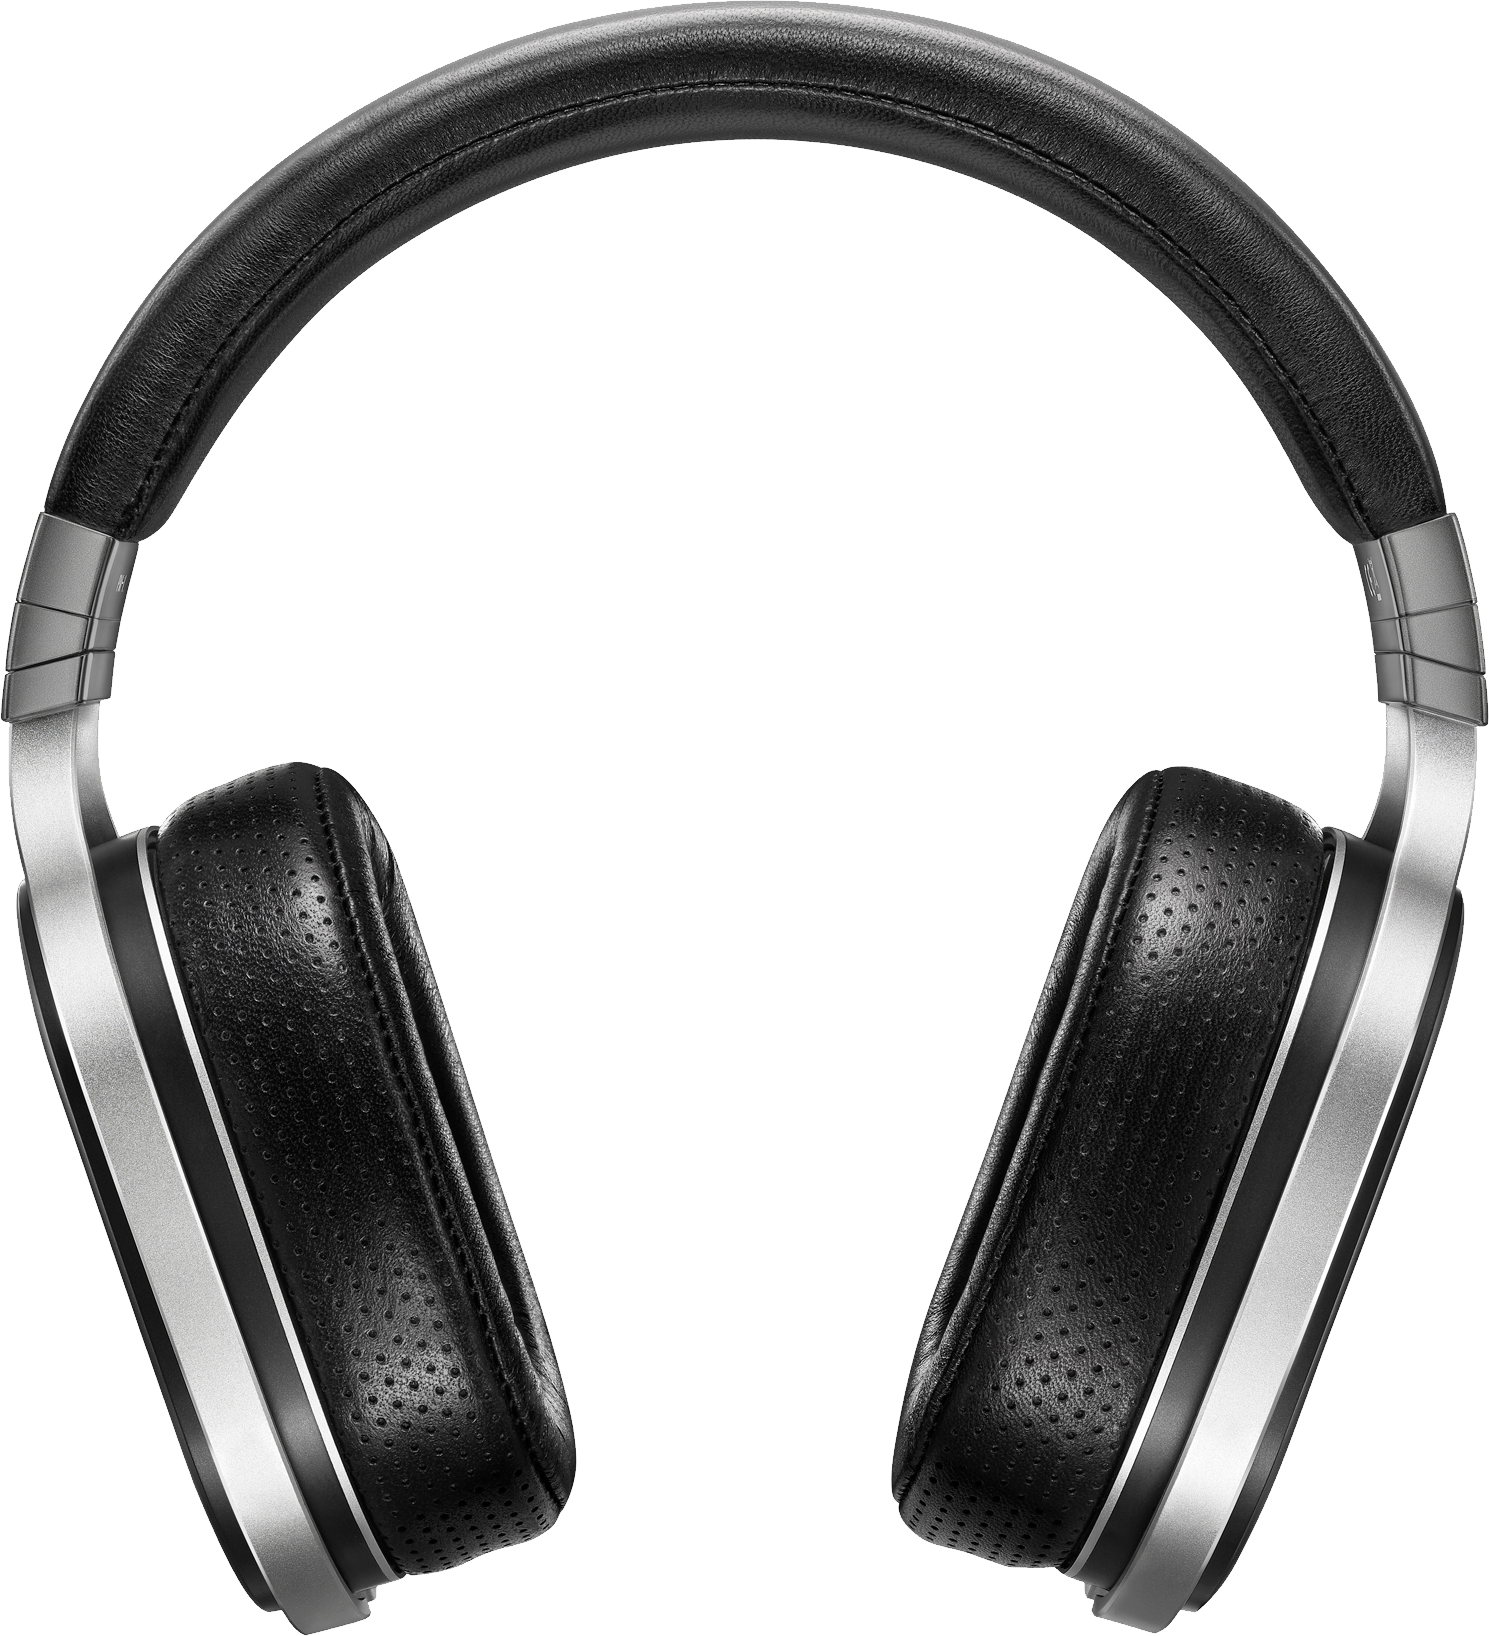headphone: (28, 86, 1489, 1588)
